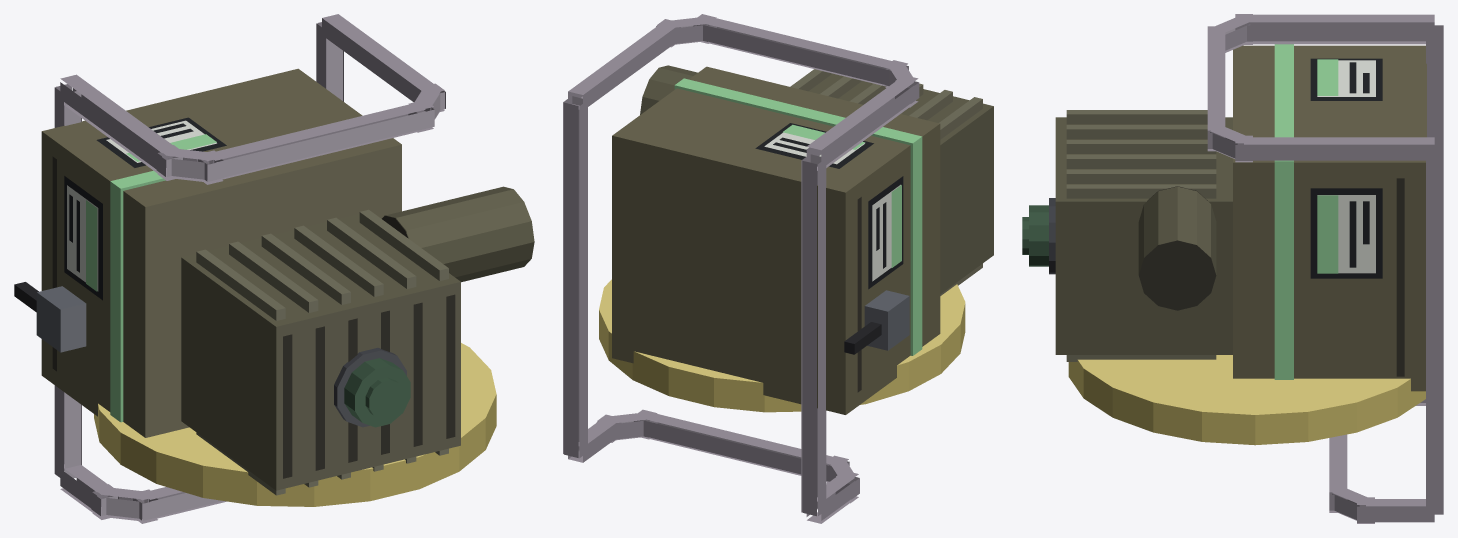
File: backup_ground_old_off_N.obj
3 views of the same model, side by side, from view 1: azimuth 30°, elevation 25°; view 2: azimuth 150°, elevation 25°; view 3: azimuth 270°, elevation 25° (orthographic). The views are drawn at different scales.
Parts seen in each view (by area): view 1: backup_ground_old_off_N; view 2: backup_ground_old_off_N; view 3: backup_ground_old_off_N.
Boxes of the visible parts, <box> form: backup_ground_old_off_N: <box>14,14,534,523</box>; backup_ground_old_off_N: <box>563,14,993,523</box>; backup_ground_old_off_N: <box>1022,14,1443,523</box>.
Bounding box in the file's own units: 0.71 × 0.767 × 0.76.
Materials: 1 (1 with a texture image).
